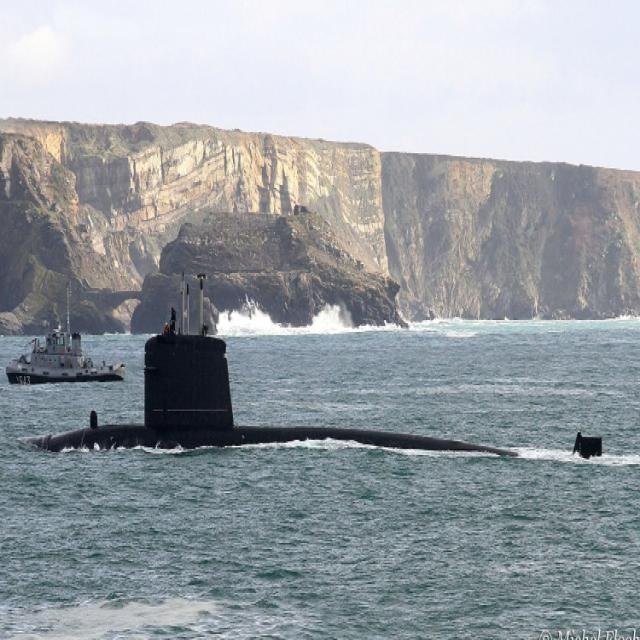submarine: (31, 330, 606, 462)
